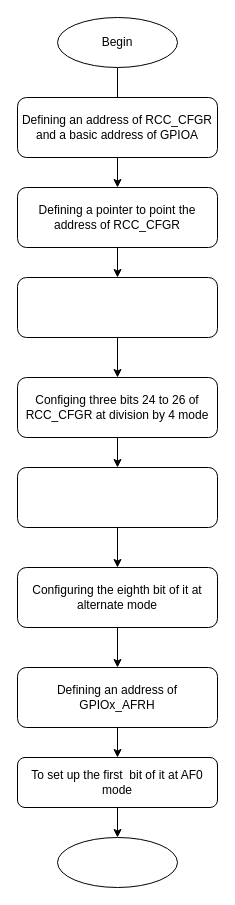
This 235x905 diagram has some shape labels left out. Each missing label, with the centre of its shape:
Configing two bit 21 and 22 of RCC_CFGR at HIS mode: (117,307)
End: (117,862)
To enable clock pusle for GPIOA: (117,497)
